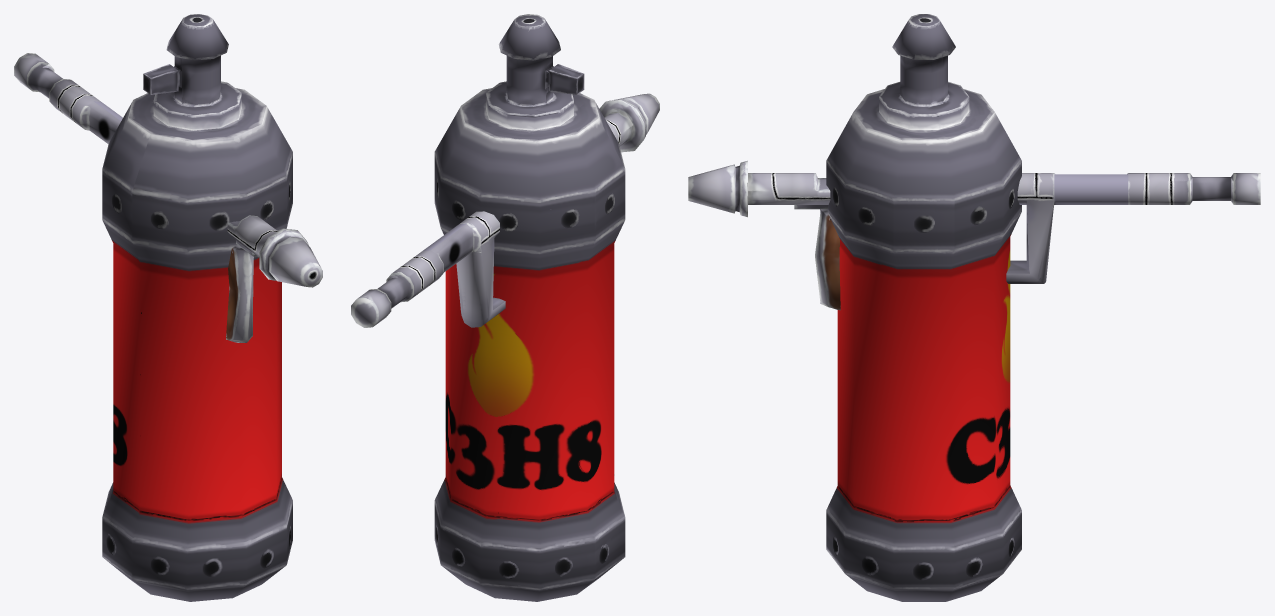
File: Item_Flamethrower.fbx
3 renders of one model, left to right at view 1: azimuth 30°, elevation 25°; view 2: azimuth 150°, elevation 25°; view 3: azimuth 270°, elevation 25°, orthographic.
Visible parts, largest first — view 1: Tank, Thrower; view 2: Tank, Thrower; view 3: Tank, Thrower.
Part boxes in pixels (left/top/right/bottom): Tank: left=102, top=14, right=292, bottom=601; Thrower: left=14, top=53, right=322, bottom=342; Tank: left=434, top=14, right=625, bottom=601; Thrower: left=351, top=93, right=659, bottom=327; Tank: left=826, top=14, right=1021, bottom=601; Thrower: left=688, top=160, right=1260, bottom=310.
Size of the model in its own units: 28.53 by 93.6 by 87.74.
